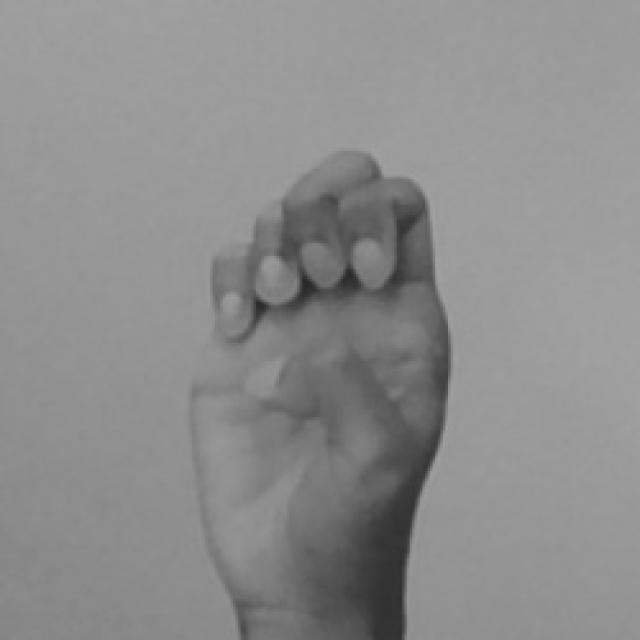E: (190, 148, 450, 640)
